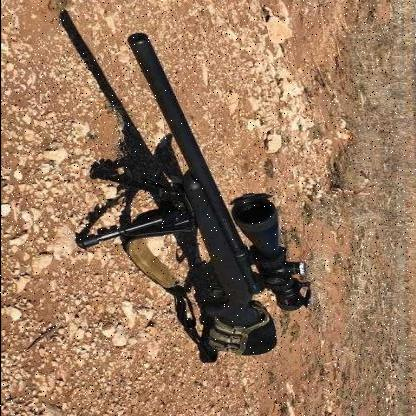rifle: (66, 23, 330, 374)
